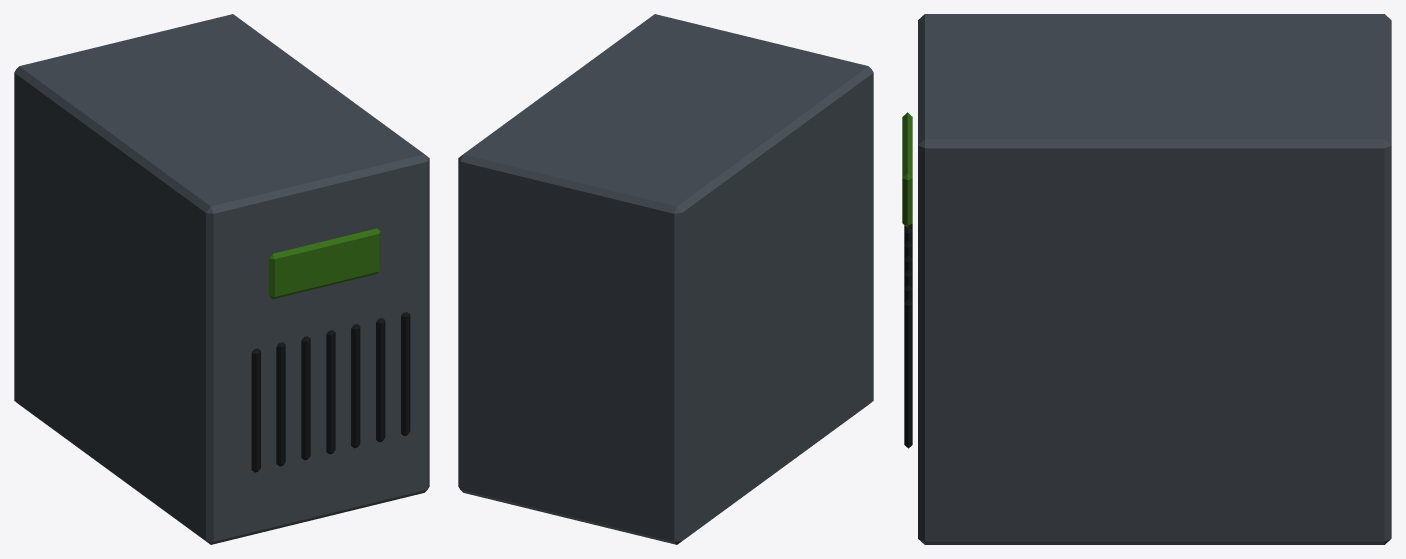
File: UPSUnit.fbx
The picture shows the model from 3 angles, left to right: view 1: azimuth 30°, elevation 25°; view 2: azimuth 150°, elevation 25°; view 3: azimuth 270°, elevation 25°; orthographic projection. The views are drawn at different scales.
Parts seen in each view (by area): view 1: UPSUnit; view 2: UPSUnit; view 3: UPSUnit.
Part boxes in pixels (bbox=[...]): UPSUnit: bbox=[14, 14, 429, 544]; UPSUnit: bbox=[458, 14, 873, 544]; UPSUnit: bbox=[902, 14, 1391, 544].
Size of the model in its own units: 36 by 52 by 56.8.
Materials: 1 (1 with a texture image).
